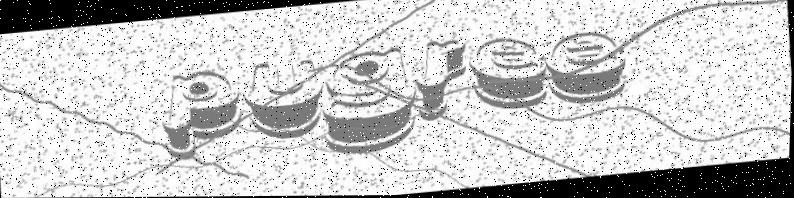e: (469, 30, 552, 115), (544, 28, 633, 106)
g: (318, 47, 421, 157)
p: (156, 65, 249, 161)
r: (414, 36, 474, 122)
u: (240, 53, 329, 144)
